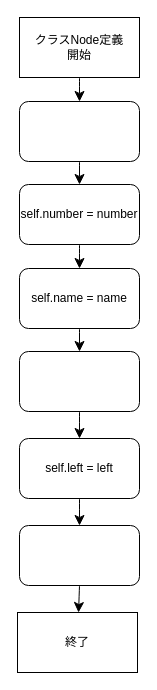
This 157x690 diagram has some shape labels left out. The shapes that lost their labels are listed below. From the top down, each one's centre as x and y in pixels, then its label:
(79,131): __init__関数 selfで定義
(79,381): self.profile = profile
(79,555): self.right = right
